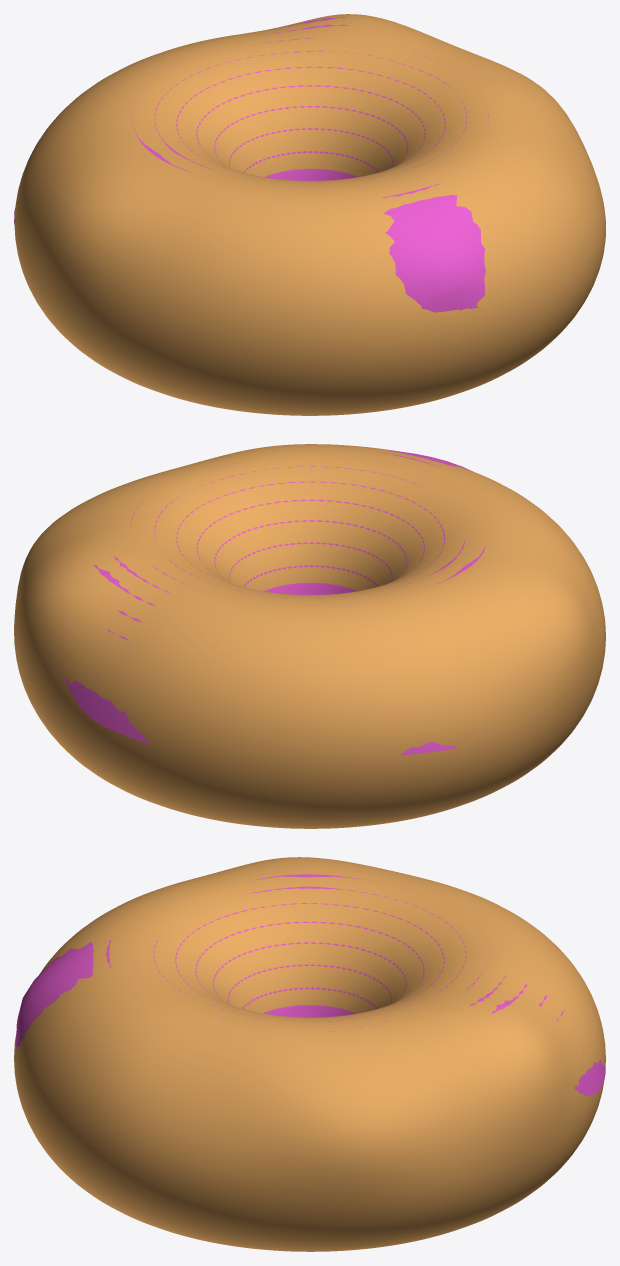
3 renders of one model, top to bottom at view 1: azimuth 30°, elevation 25°; view 2: azimuth 150°, elevation 25°; view 3: azimuth 270°, elevation 25°, orthographic.
Parts seen in each view (by area): view 1: Donut, Icing; view 2: Donut, Icing; view 3: Donut, Icing.
Part boxes in pixels (left/top/right/bottom): Donut: left=14, top=14, right=605, bottom=415; Icing: left=14, top=17, right=488, bottom=312; Donut: left=14, top=444, right=605, bottom=828; Icing: left=64, top=449, right=485, bottom=755; Donut: left=14, top=857, right=605, bottom=1251; Icing: left=16, top=874, right=605, bottom=1095.
Bounding box in the file's own units: 0.0599 × 0.0238 × 0.0589.
